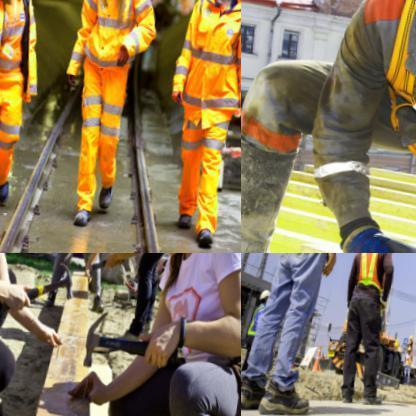vest: (307, 0, 415, 252), (64, 0, 170, 97), (167, 0, 240, 130), (0, 0, 56, 118), (355, 253, 392, 296), (251, 303, 271, 343)
